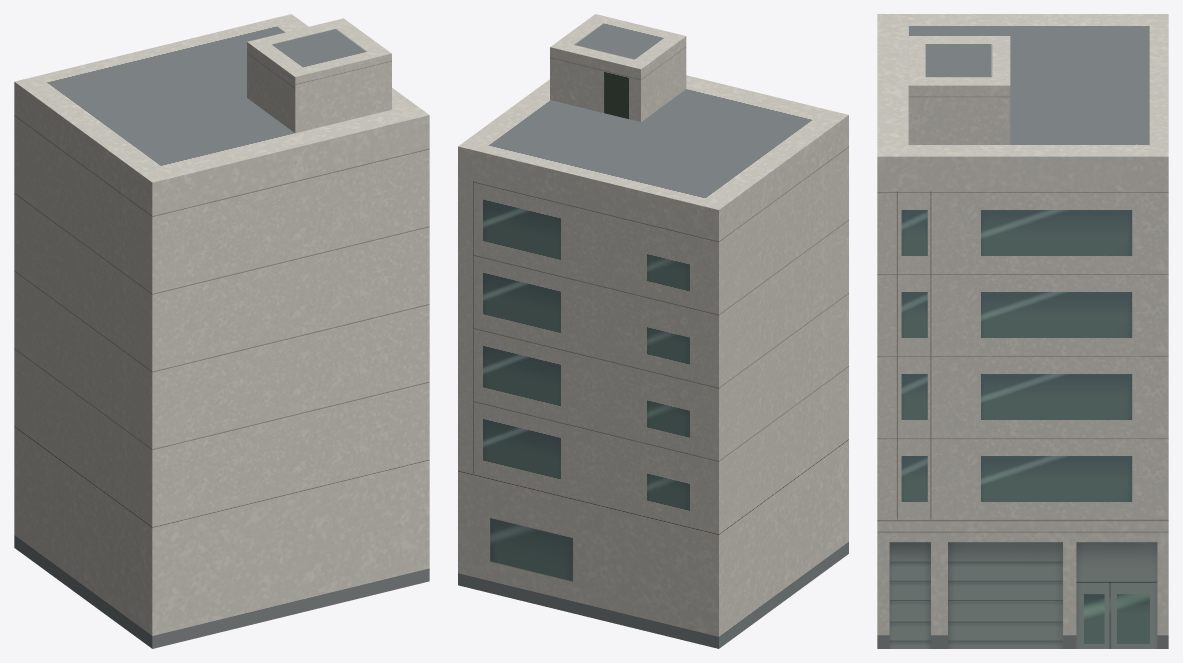
File: buil1.fbx
The picture shows the model from 3 angles, left to right: view 1: azimuth 30°, elevation 25°; view 2: azimuth 150°, elevation 25°; view 3: azimuth 270°, elevation 25°; orthographic projection. The views are drawn at different scales.
Parts seen in each view (by area): view 1: Cube; view 2: Cube; view 3: Cube.
Part boxes in pixels (bbox=[...]): Cube: bbox=[14, 14, 429, 648]; Cube: bbox=[458, 14, 848, 648]; Cube: bbox=[877, 14, 1168, 648].
Size of the model in its own units: 809 by 1457 by 698.
Materials: 1 (1 with a texture image).
